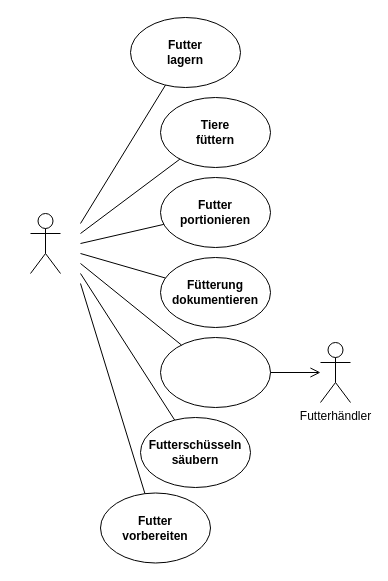
This 388x581 diagram has some shape labels left out. The shapes that lost their labels are listed below. From the top down, each one's centre as x and y in pixels, then its label:
At point 45,243: "Tierpfleger Nagetiere".
At point 215,372: "Futter bestellen".
